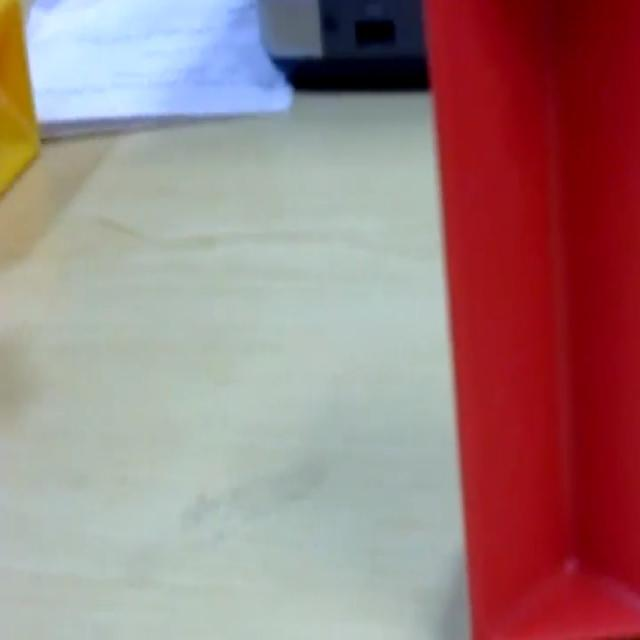red_block: (421, 1, 638, 636)
yellow_block: (0, 0, 41, 196)
